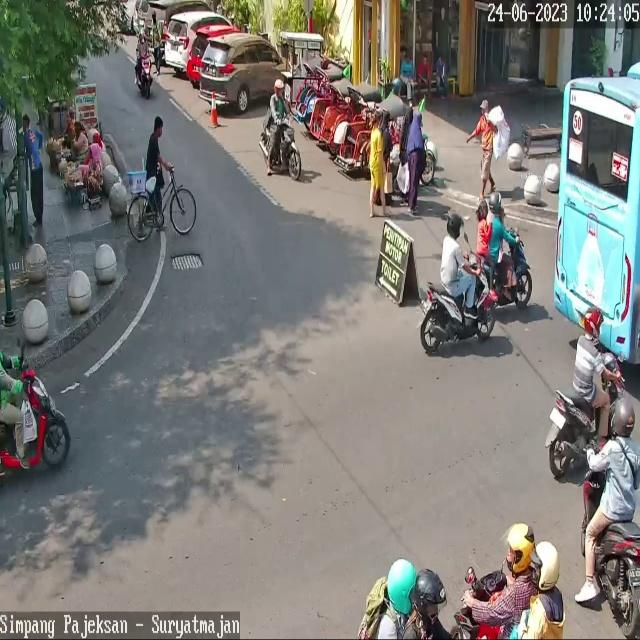bus: (582, 461, 640, 640), (548, 350, 625, 478), (419, 250, 496, 352), (0, 366, 73, 470), (451, 568, 511, 640), (499, 226, 534, 312), (262, 111, 302, 179), (136, 50, 154, 99)
car: (551, 58, 640, 366)
motorcycle: (201, 34, 281, 114), (164, 9, 233, 67), (144, 0, 212, 54), (186, 24, 242, 82)
